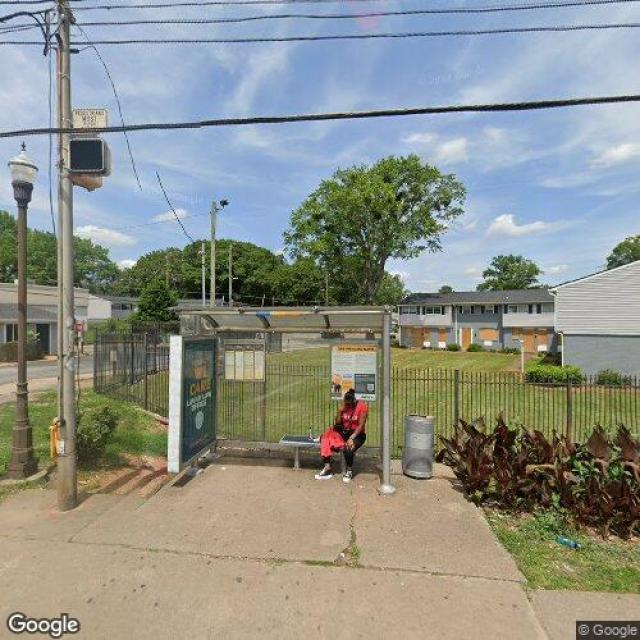seating: (278, 432, 368, 478)
shelter: (162, 304, 400, 496)
trash_can: (402, 414, 435, 479)
